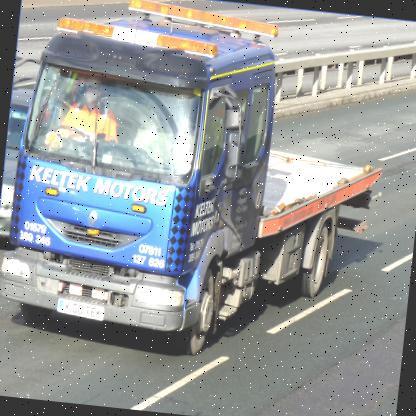Car: (0, 75, 38, 253)
